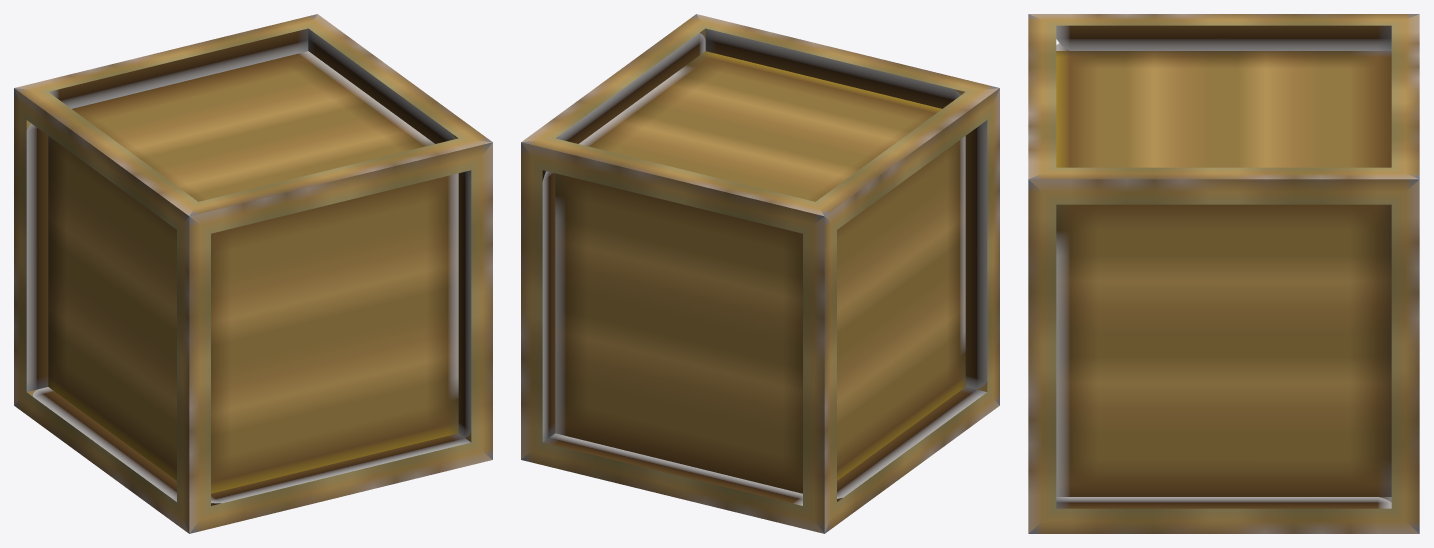
The model's file is Crate_Set.fbx.
3 renders of one model, left to right at view 1: azimuth 30°, elevation 25°; view 2: azimuth 150°, elevation 25°; view 3: azimuth 270°, elevation 25°, orthographic. The views are drawn at different scales.
Parts seen in each view (by area): view 1: Crate_Wood; view 2: Crate_Wood; view 3: Crate_Wood.
Part boxes in pixels (<box>): Crate_Wood: <box>14,14,492,533</box>; Crate_Wood: <box>521,14,999,533</box>; Crate_Wood: <box>1028,14,1419,533</box>.
Bounding box in the file's own units: 14 × 14 × 14.
1 material, 1 textured.
